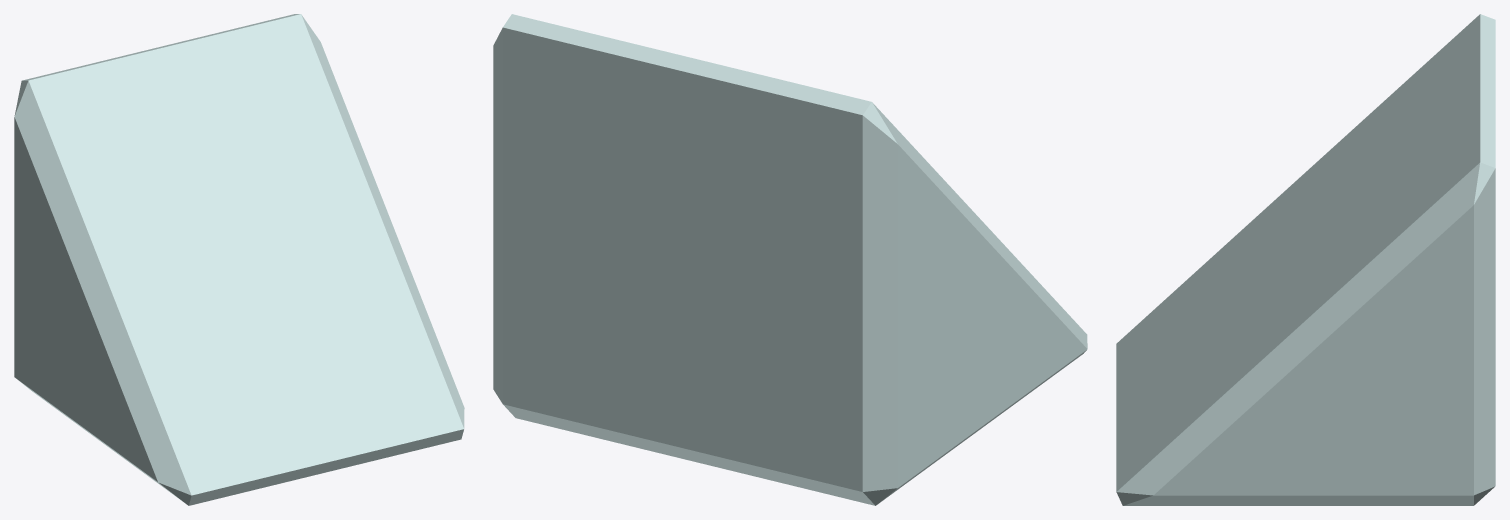
The model's file is triangle.glb.
3 renders of one model, left to right at view 1: azimuth 30°, elevation 25°; view 2: azimuth 150°, elevation 25°; view 3: azimuth 270°, elevation 25°, orthographic. The views are drawn at different scales.
Parts seen in each view (by area): view 1: Cube; view 2: Cube; view 3: Cube.
Part boxes in pixels (x1,y1,x2,y2): Cube: (14,14,464,505); Cube: (493,14,1087,505); Cube: (1116,14,1495,505).
Size of the model in its own units: 2 by 1.92 by 1.92.
